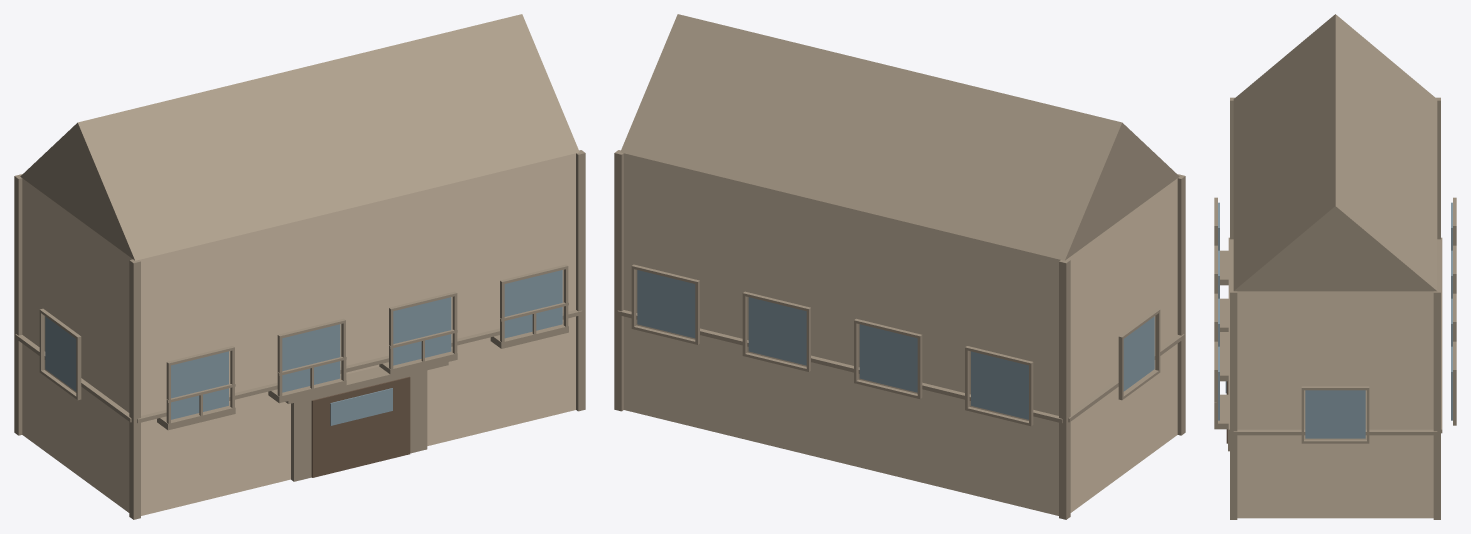
Rendered from lot_2x1_gable.glb.
3 views of the same model, side by side, from view 1: azimuth 30°, elevation 25°; view 2: azimuth 150°, elevation 25°; view 3: azimuth 270°, elevation 25° (orthographic). The views are drawn at different scales.
Parts seen in each view (by area): view 1: lot_2x1_gable; view 2: lot_2x1_gable; view 3: lot_2x1_gable.
Boxes of the visible parts, box(x1,y1,x2,y2) form: lot_2x1_gable: box(14, 14, 585, 519); lot_2x1_gable: box(614, 14, 1185, 519); lot_2x1_gable: box(1214, 14, 1456, 519).
Bounding box in the file's own units: 15.74 × 11 × 7.74.
